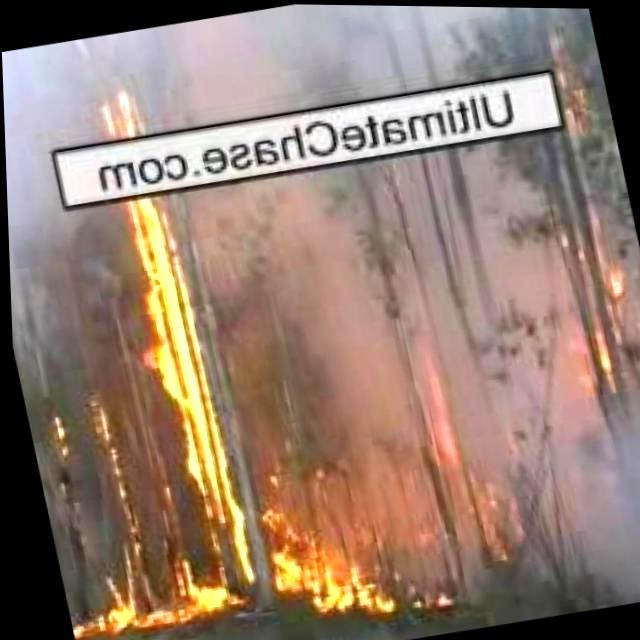fire: (98, 93, 248, 612), (249, 482, 403, 626), (57, 562, 153, 636)
